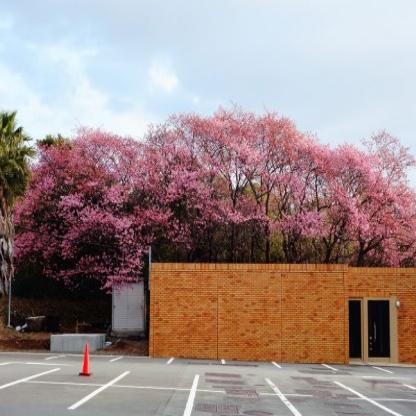KawazuSakura: (8, 100, 415, 299)
